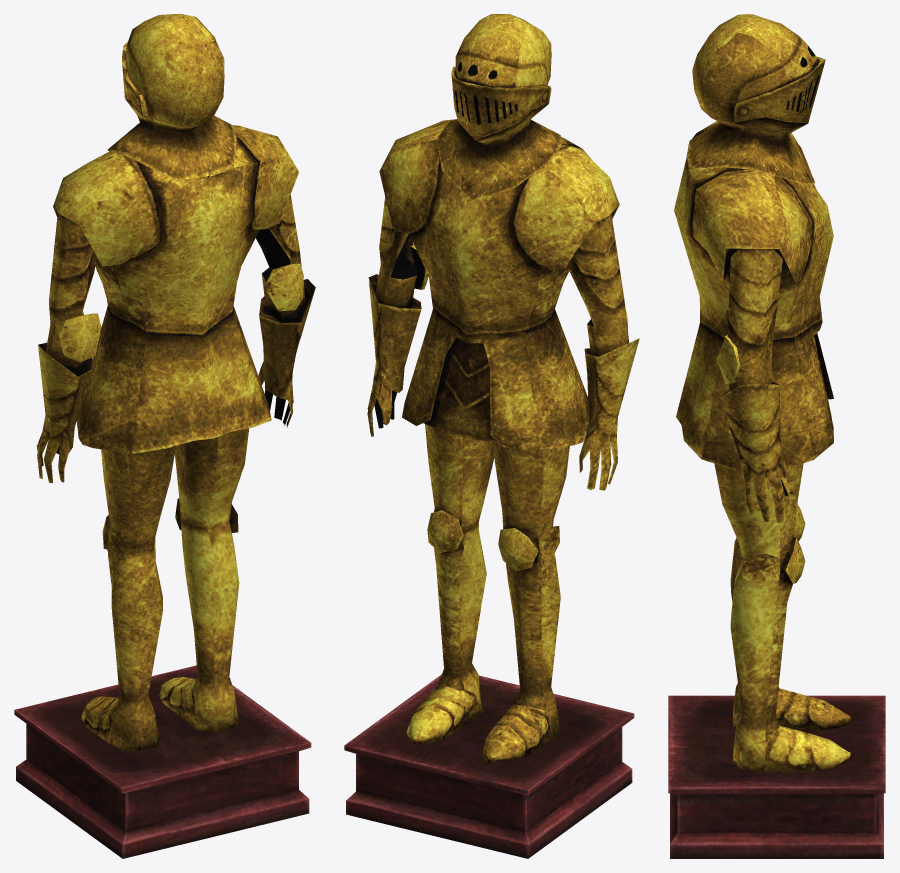
Rendered from armour_gold_complete.dae.
3 views of the same model, side by side, from view 1: azimuth 30°, elevation 25°; view 2: azimuth 150°, elevation 25°; view 3: azimuth 270°, elevation 25° (orthographic). The views are drawn at different scales.
Visible parts, largest first — view 1: breastplate, podium, Box02, right_boot, head, right_glove; view 2: breastplate, podium, Box02, head, right_boot, right_glove; view 3: breastplate, podium, right_boot, head, right_glove, Box02.
Boxes of the visible parts, bbox=[...] form: breastplate: bbox=[53, 125, 298, 454]; podium: bbox=[14, 665, 311, 858]; Box02: bbox=[36, 212, 175, 751]; right_boot: bbox=[159, 428, 249, 732]; head: bbox=[107, 14, 236, 180]; right_glove: bbox=[256, 195, 315, 427]; breastplate: bbox=[379, 119, 619, 450]; podium: bbox=[344, 674, 634, 858]; Box02: bbox=[483, 214, 639, 762]; head: bbox=[437, 14, 563, 200]; right_boot: bbox=[406, 424, 494, 744]; right_glove: bbox=[367, 196, 428, 436]; breastplate: bbox=[674, 121, 833, 472]; podium: bbox=[668, 695, 885, 858]; right_boot: bbox=[714, 463, 851, 771]; head: bbox=[687, 14, 825, 183]; right_glove: bbox=[717, 248, 795, 523]; Box02: bbox=[730, 504, 851, 730].
Size of the model in its own units: 0.9166 by 0.6365 by 2.57.
